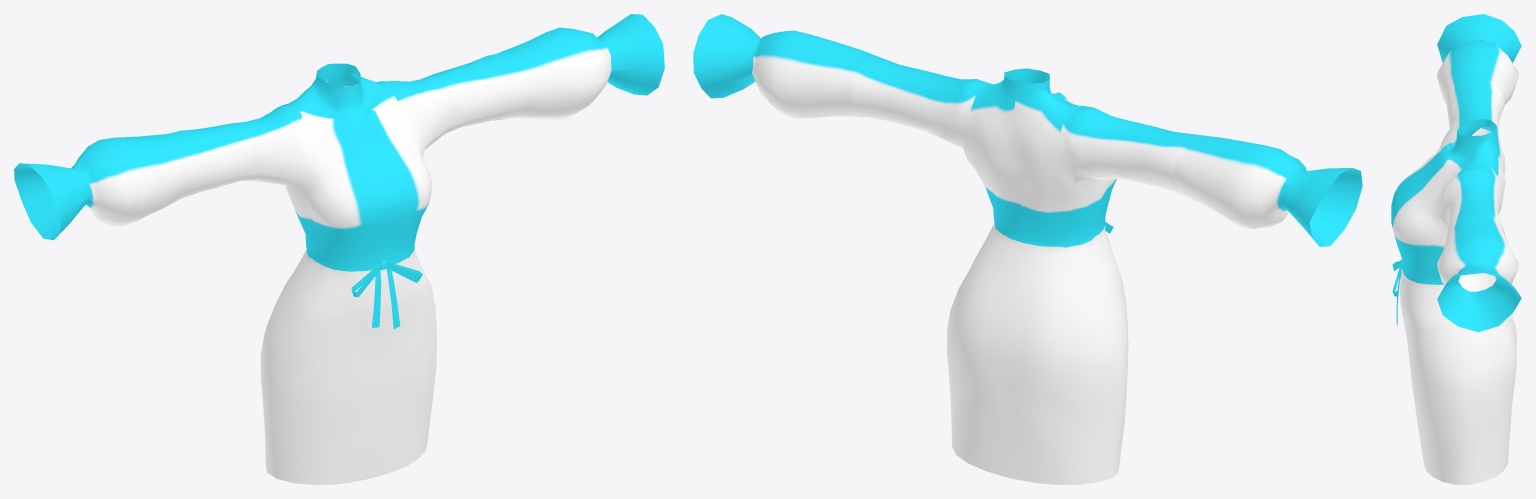
Rendered from chest-mage.glb.
The picture shows the model from 3 angles, left to right: view 1: azimuth 30°, elevation 25°; view 2: azimuth 150°, elevation 25°; view 3: azimuth 270°, elevation 25°; orthographic projection. The views are drawn at different scales.
Visible parts, largest first — view 1: chest-mage; view 2: chest-mage; view 3: chest-mage.
Part boxes in pixels (x1,y1,x2,y2): chest-mage: (14, 14, 664, 484); chest-mage: (693, 14, 1362, 484); chest-mage: (1391, 14, 1521, 484).
Size of the model in its own units: 1.3 by 0.7737 by 0.2768.
Materials: 1 (1 with a texture image).
